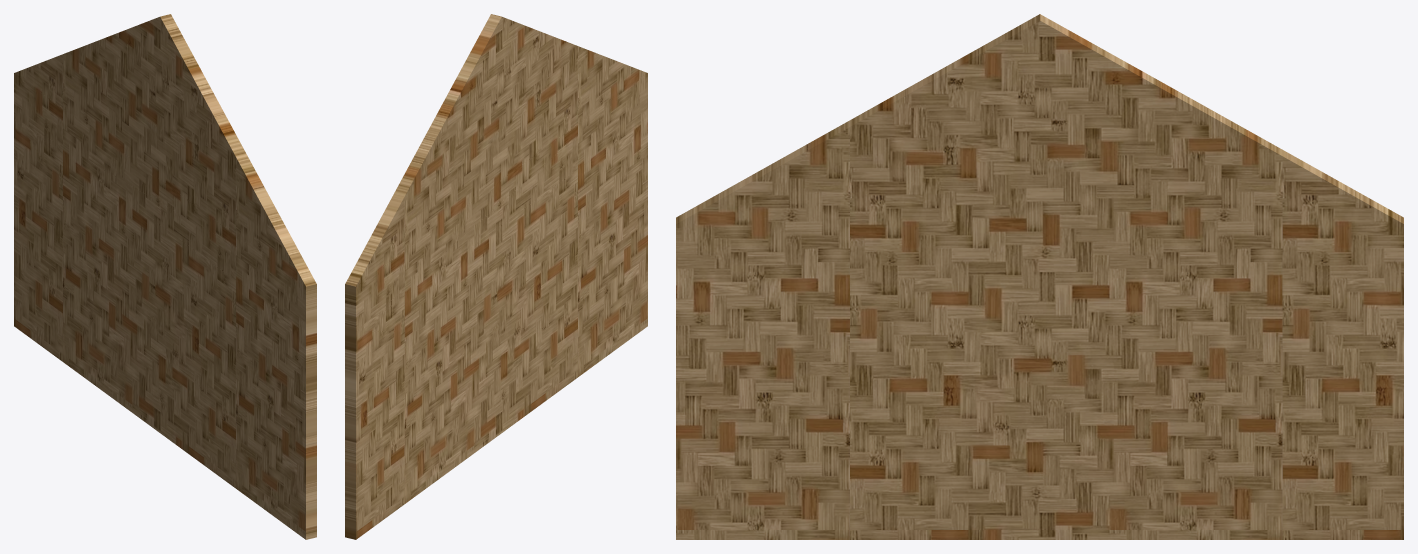
The model's file is KiriR1.fbx.
3 renders of one model, left to right at view 1: azimuth 30°, elevation 25°; view 2: azimuth 150°, elevation 25°; view 3: azimuth 270°, elevation 25°, orthographic. The views are drawn at different scales.
Parts seen in each view (by area): view 1: R1_T-Kiri; view 2: R1_T-Kiri; view 3: R1_T-Kiri.
Part boxes in pixels (x1,y1,x2,y2): R1_T-Kiri: (14,14,316,539); R1_T-Kiri: (345,14,647,539); R1_T-Kiri: (676,14,1403,539).
Bounding box in the file's own units: 0.3 × 11.04 × 14.02.
1 material, 1 textured.
